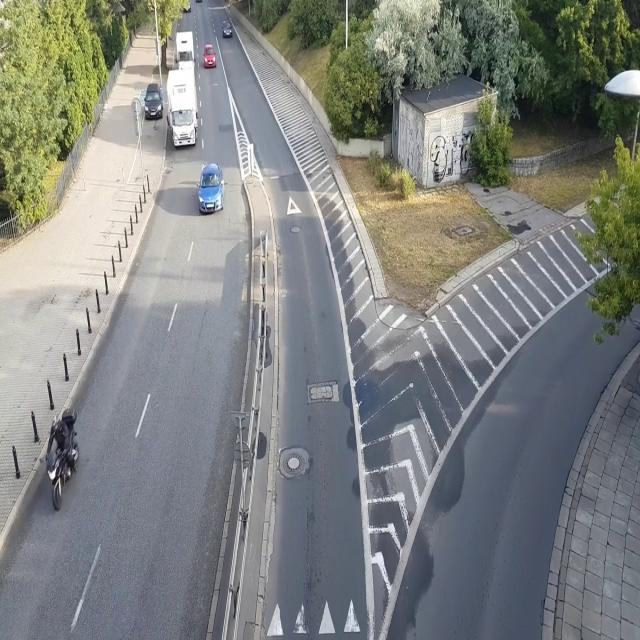car: (194, 163, 225, 214), (144, 82, 163, 119), (204, 41, 216, 71), (221, 18, 233, 38), (181, 0, 191, 14)
motorcycle: (43, 406, 80, 512)
truck: (166, 68, 199, 149), (174, 30, 197, 74)
